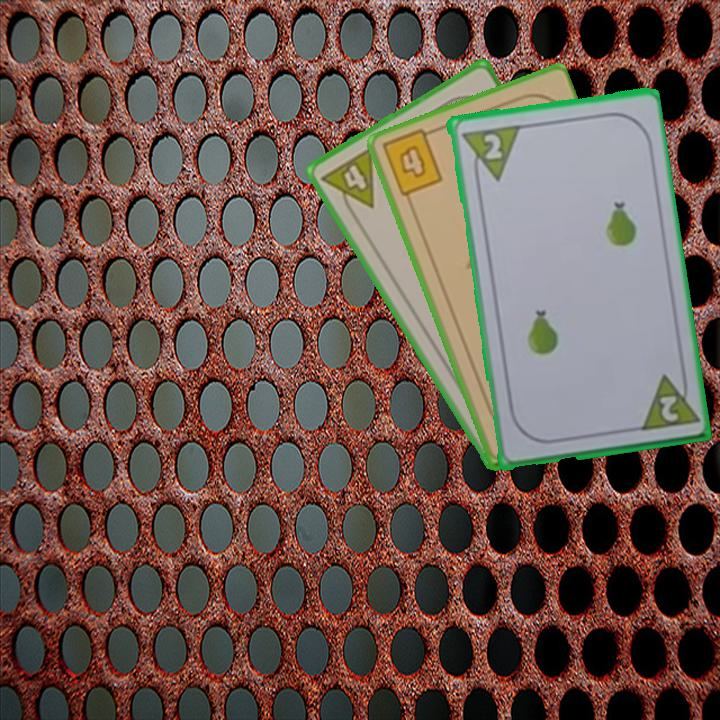2p: (457, 120, 522, 187), (634, 368, 699, 434)
4b: (378, 124, 445, 200)
4p: (317, 143, 377, 222)
